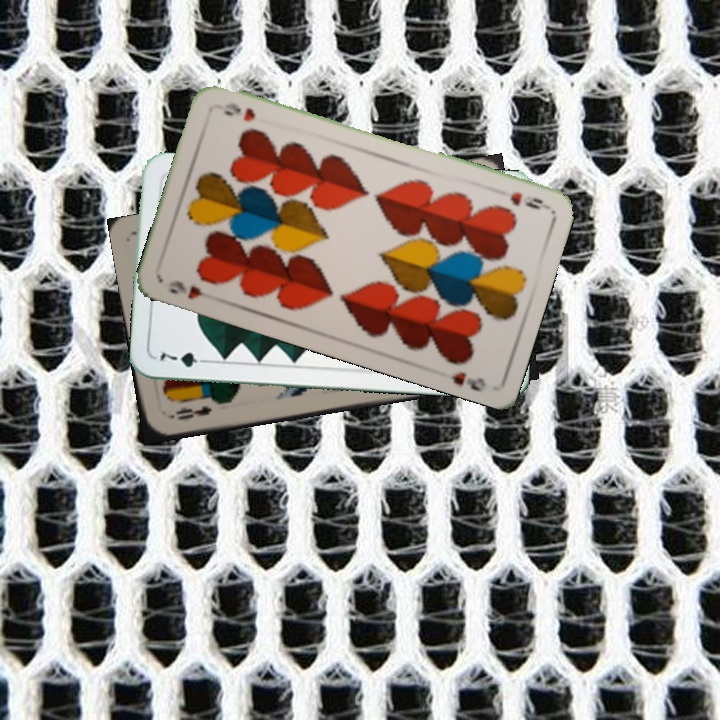EO: (164, 402, 215, 423)
G7: (156, 346, 213, 370)
H9: (165, 276, 217, 303), (506, 188, 550, 213)
